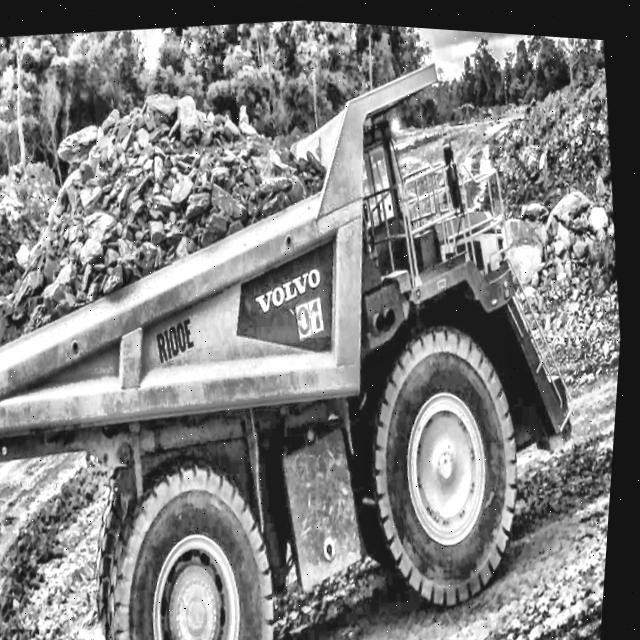dump_truck: (0, 5, 632, 640)
